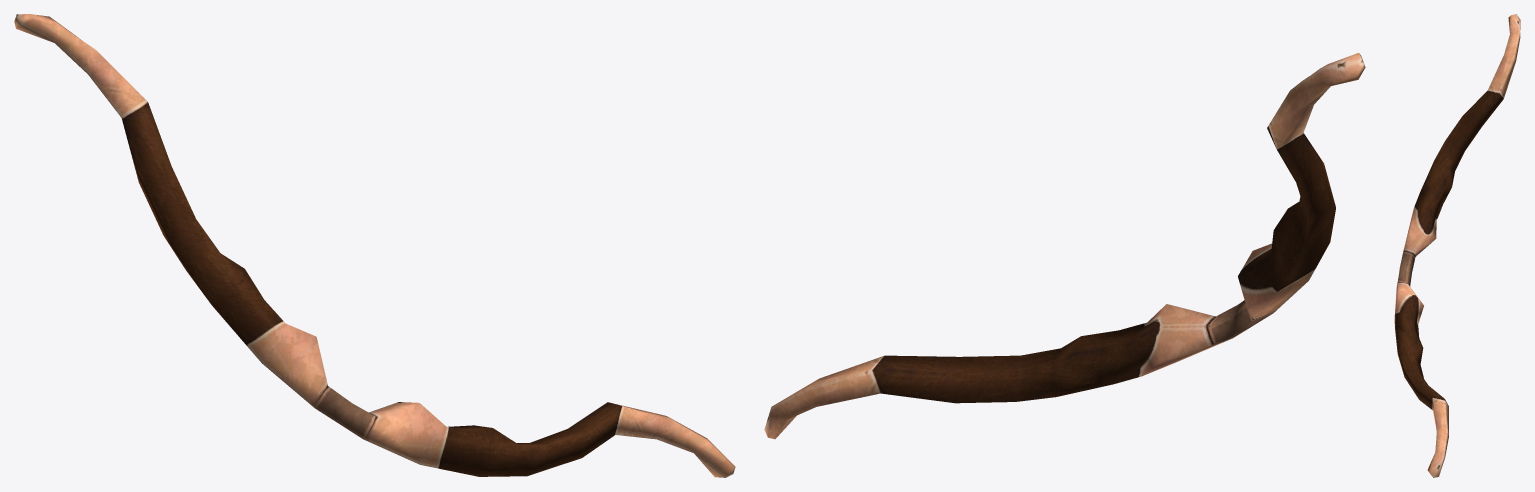
File: weapon-copperweapons.glb
3 views of the same model, side by side, from view 1: azimuth 30°, elevation 25°; view 2: azimuth 150°, elevation 25°; view 3: azimuth 270°, elevation 25° (orthographic). The views are drawn at different scales.
Bounding box in the file's own units: 1.15 × 0.9696 × 0.37.
Materials: 1 (1 with a texture image).
